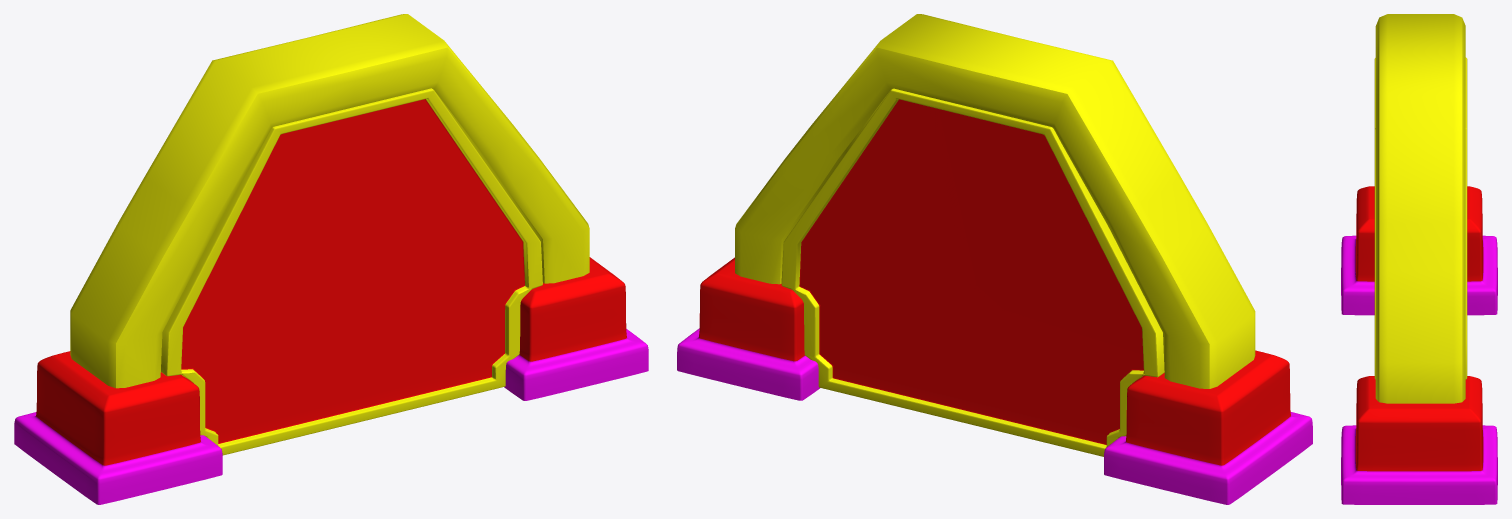
Rendered from Entrance_Door.fbx.
3 renders of one model, left to right at view 1: azimuth 30°, elevation 25°; view 2: azimuth 150°, elevation 25°; view 3: azimuth 270°, elevation 25°, orthographic. The views are drawn at different scales.
Parts seen in each view (by area): view 1: Entrance_Door, Entrance_Door_Frame; view 2: Entrance_Door, Entrance_Door_Frame; view 3: Entrance_Door_Frame, Entrance_Door.
Part boxes in pixels (x1=…): Entrance_Door: x1=161, y1=88, x2=542, y2=455; Entrance_Door_Frame: x1=14, y1=14, x2=648, y2=504; Entrance_Door: x1=781, y1=88, x2=1164, y2=456; Entrance_Door_Frame: x1=677, y1=14, x2=1312, y2=504; Entrance_Door_Frame: x1=1341, y1=14, x2=1497, y2=504; Entrance_Door: x1=1374, y1=57, x2=1467, y2=379.
Bounding box in the file's own units: 995 × 612 × 268.
